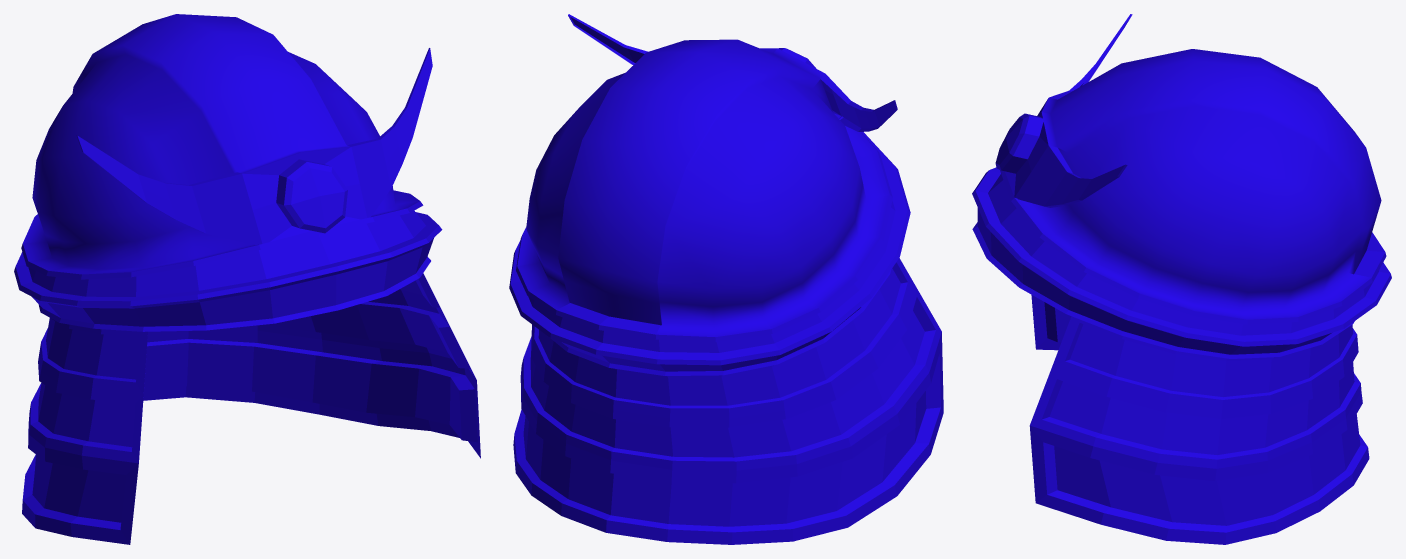
Rendered from SamuraiHelmet.fbx.
The picture shows the model from 3 angles, left to right: view 1: azimuth 30°, elevation 25°; view 2: azimuth 150°, elevation 25°; view 3: azimuth 270°, elevation 25°; orthographic projection. The views are drawn at different scales.
Visible parts, largest first — view 1: SamuraiHelmet; view 2: SamuraiHelmet; view 3: SamuraiHelmet.
Boxes of the visible parts, x1,y1,x2,y2 form: SamuraiHelmet: (14, 14, 480, 544); SamuraiHelmet: (509, 14, 943, 544); SamuraiHelmet: (972, 14, 1391, 544).
Bounding box in the file's own units: 75.88 × 82.78 × 77.27.
